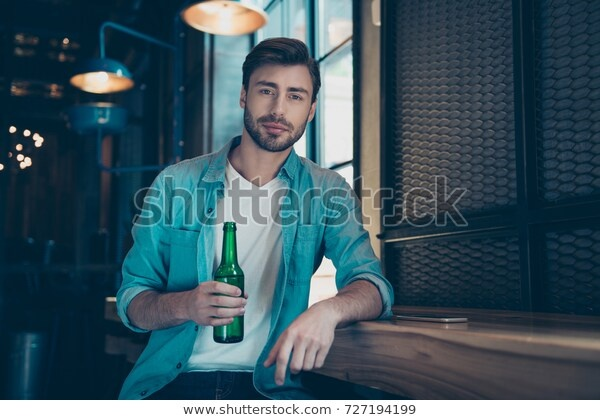beerBottle: (216, 223, 247, 341)
